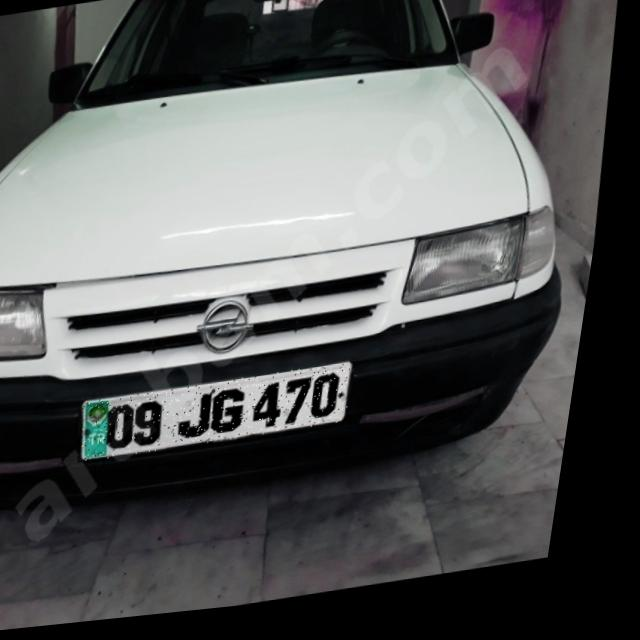license_plate: (89, 370, 368, 467)
